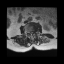CCS_normal: (30, 30, 32, 37)
LFS_severe_stenosis: (33, 29, 35, 34)
LLS_stenosis: (32, 30, 33, 34)
RFS_normal: (27, 30, 29, 34)
RLS_normal: (29, 30, 30, 35)
